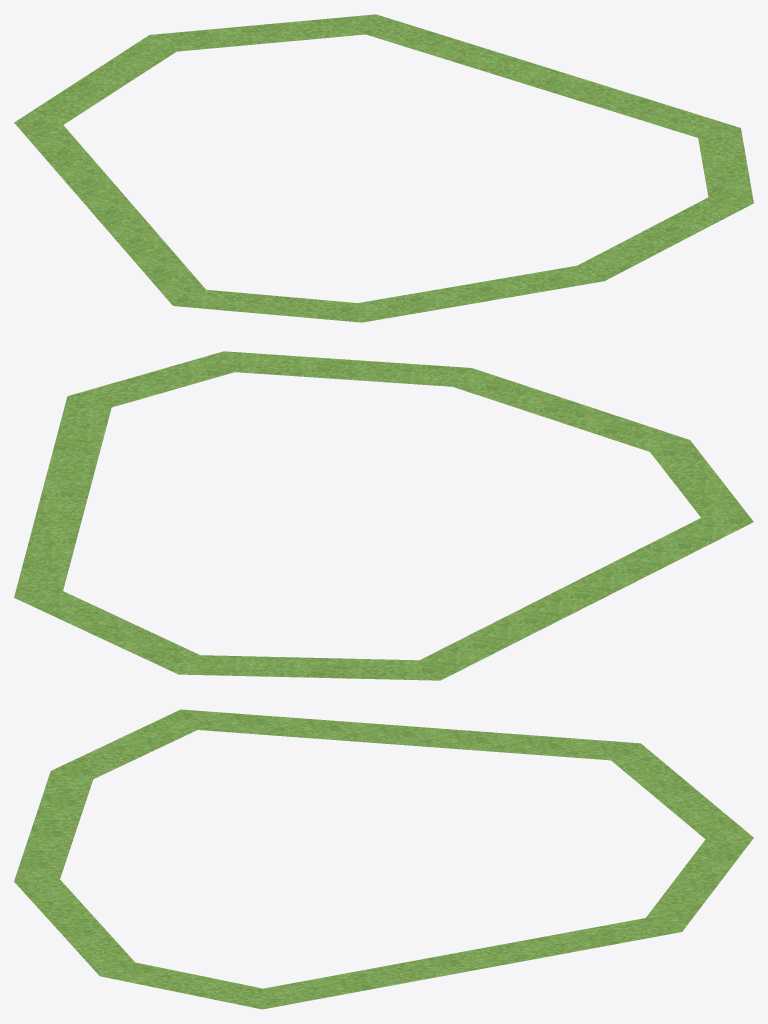
The model's file is kd_stage_1366d7_14_2.glb.
3 renders of one model, top to bottom at view 1: azimuth 30°, elevation 25°; view 2: azimuth 150°, elevation 25°; view 3: azimuth 270°, elevation 25°, orthographic. The views are drawn at different scales.
Parts seen in each view (by area): view 1: kd_stage_1366d7_14_2; view 2: kd_stage_1366d7_14_2; view 3: kd_stage_1366d7_14_2.
Part boxes in pixels (x1,y1,x2,y2): kd_stage_1366d7_14_2: [14, 14, 753, 322]; kd_stage_1366d7_14_2: [14, 351, 753, 680]; kd_stage_1366d7_14_2: [14, 709, 753, 1009].
Size of the model in its own units: 11.46 by 2.03e-06 by 11.95.
Materials: 1 (1 with a texture image).
